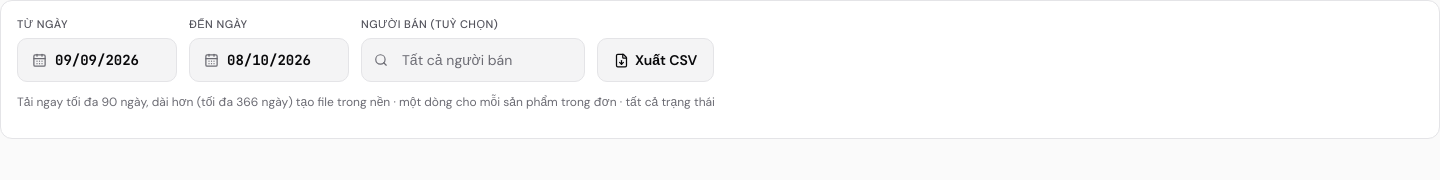
it: OrderExportPanel — admin (T4) › maps a 404 on the seller filter to "không tìm thấy người bán"
This screenshot has width=1440, height=180.
Click the button "Xuất CSV".
click(656, 60)  # box [597, 38, 714, 82]
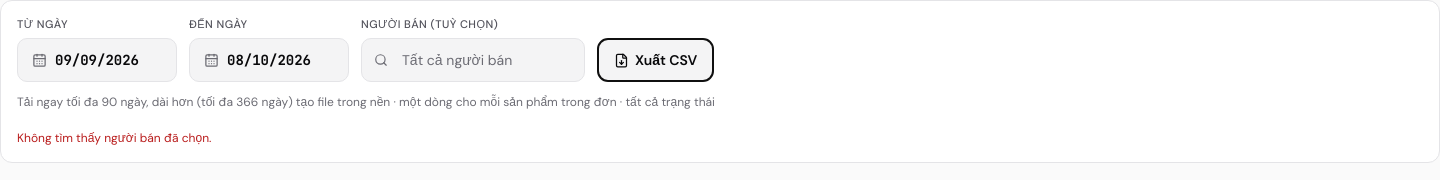
Check: the text "Không tìm thấy người bán đã chọn." is shown, box [17, 130, 211, 146]
